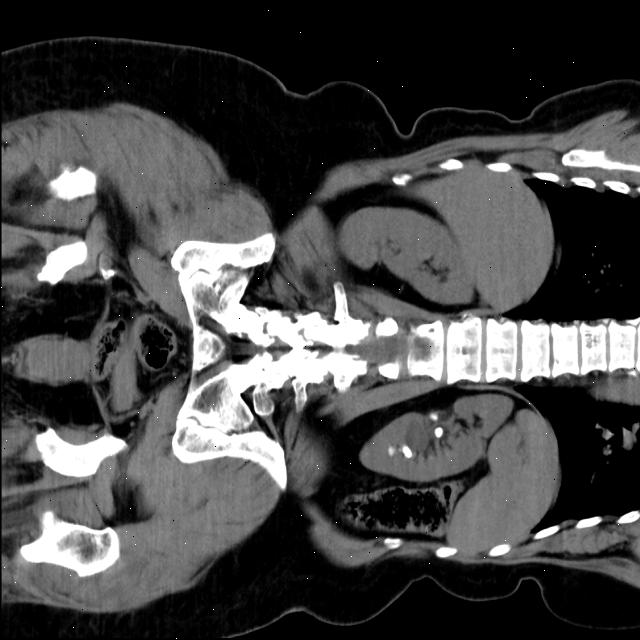kidneystone: (401, 445, 411, 458), (434, 427, 442, 437)
